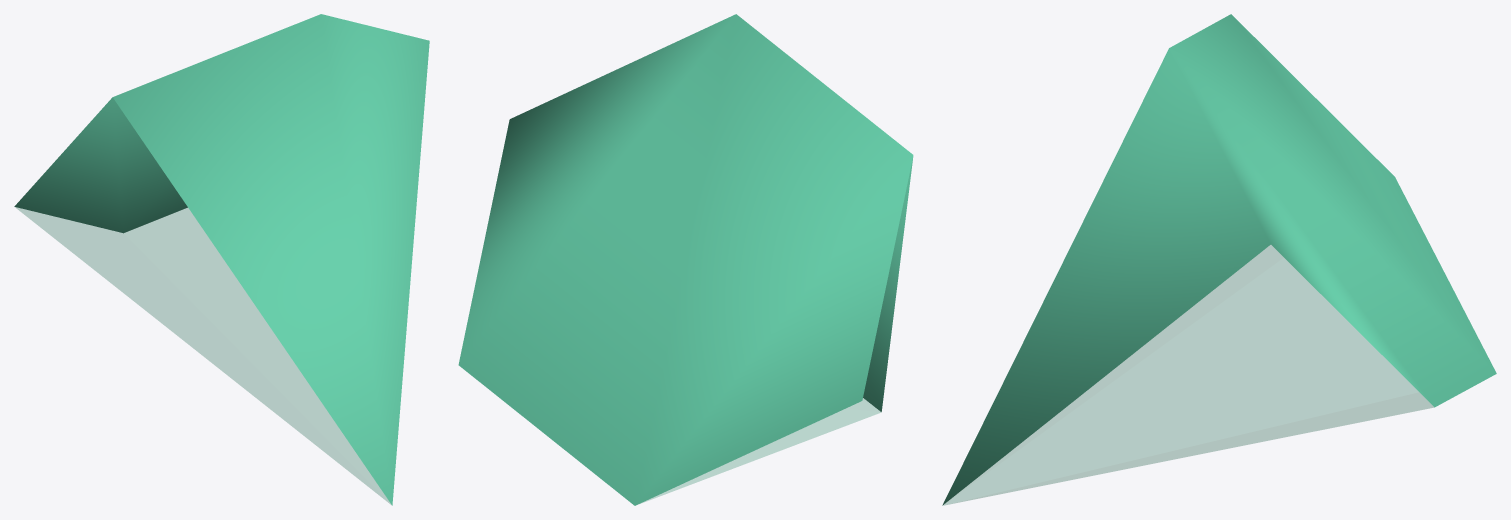
3 renders of one model, left to right at view 1: azimuth 30°, elevation 25°; view 2: azimuth 150°, elevation 25°; view 3: azimuth 270°, elevation 25°, orthographic. The views are drawn at different scales.
Size of the model in its own units: 4.7 by 5.13 by 5.45.
